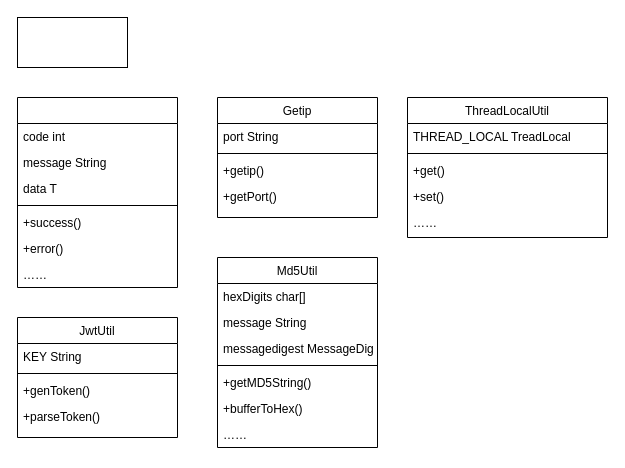
Image size: 625x468. Some labels were removed from this diagram. The shapes that lost their labels are listed below. From the top down, each one's box as (x1, y1, x2, y2) in pixels, then its label:
(16, 16, 128, 68): utils
(16, 96, 178, 288): Result
